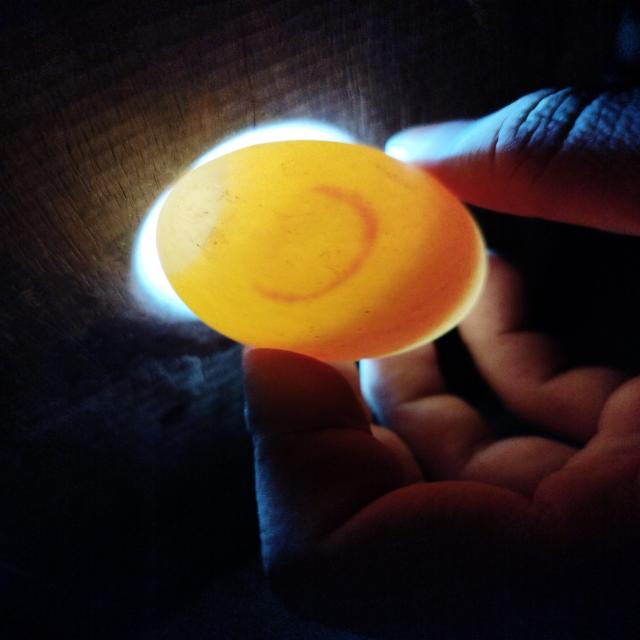Camara de Ar: (156, 152, 233, 271)
Gema Quebrada: (269, 179, 478, 363)
